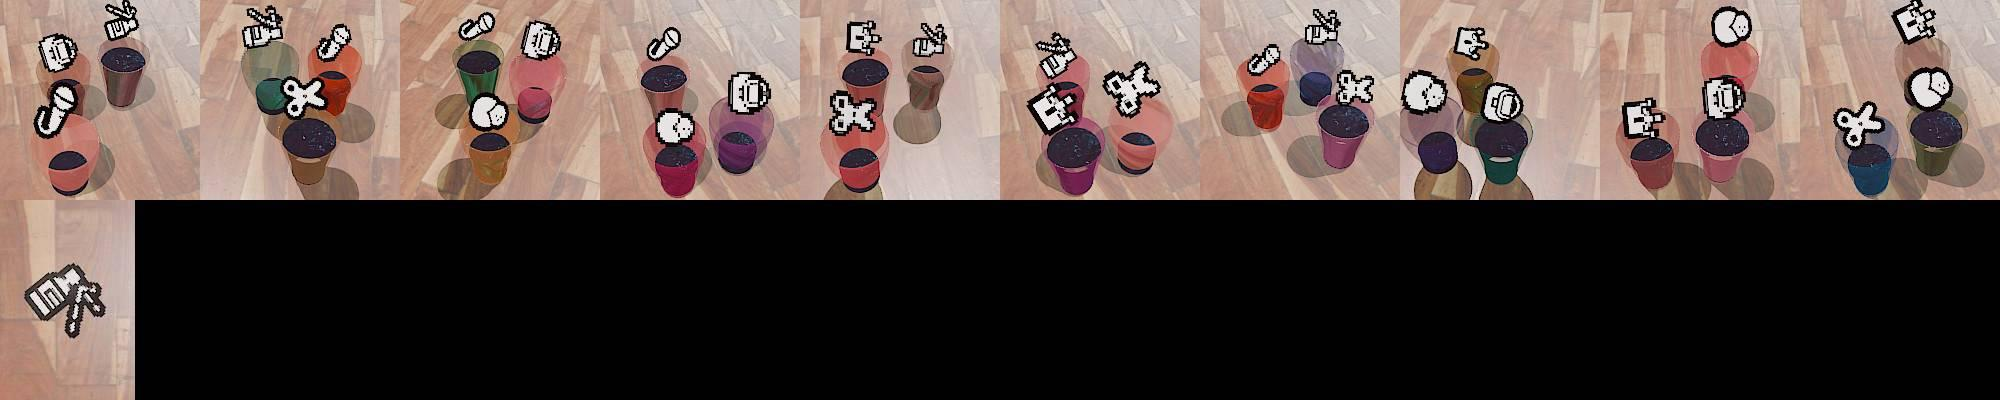icon: (22, 263, 109, 343), (1100, 62, 1159, 119), (1027, 82, 1081, 134), (34, 80, 81, 139), (1833, 100, 1886, 150), (1401, 69, 1450, 118), (827, 89, 878, 136), (1890, 0, 1938, 46), (1904, 67, 1954, 111), (1701, 74, 1746, 120), (727, 70, 771, 115), (243, 5, 287, 50), (280, 75, 326, 118), (1480, 82, 1524, 125), (1710, 4, 1753, 47), (520, 19, 563, 61), (1621, 96, 1662, 140), (653, 106, 697, 146), (37, 33, 78, 74), (1333, 68, 1376, 107), (468, 93, 510, 131), (1303, 7, 1341, 47), (911, 22, 950, 59), (1037, 31, 1074, 68), (104, 3, 140, 41), (317, 23, 352, 62), (1245, 42, 1282, 77), (1453, 25, 1490, 60), (846, 19, 881, 55), (646, 26, 681, 61), (460, 11, 497, 42)
